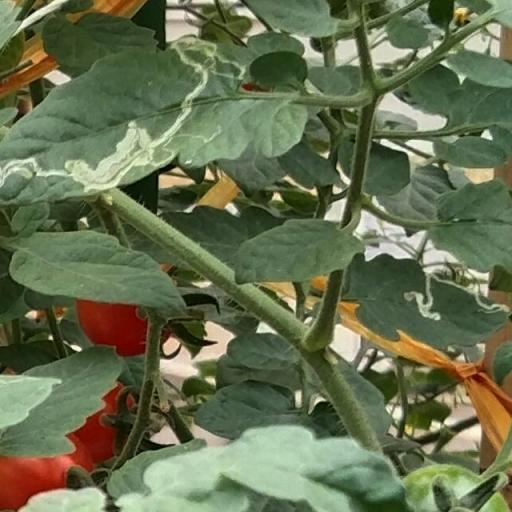disease_tomato: (0, 32, 309, 208), (344, 251, 512, 352)
